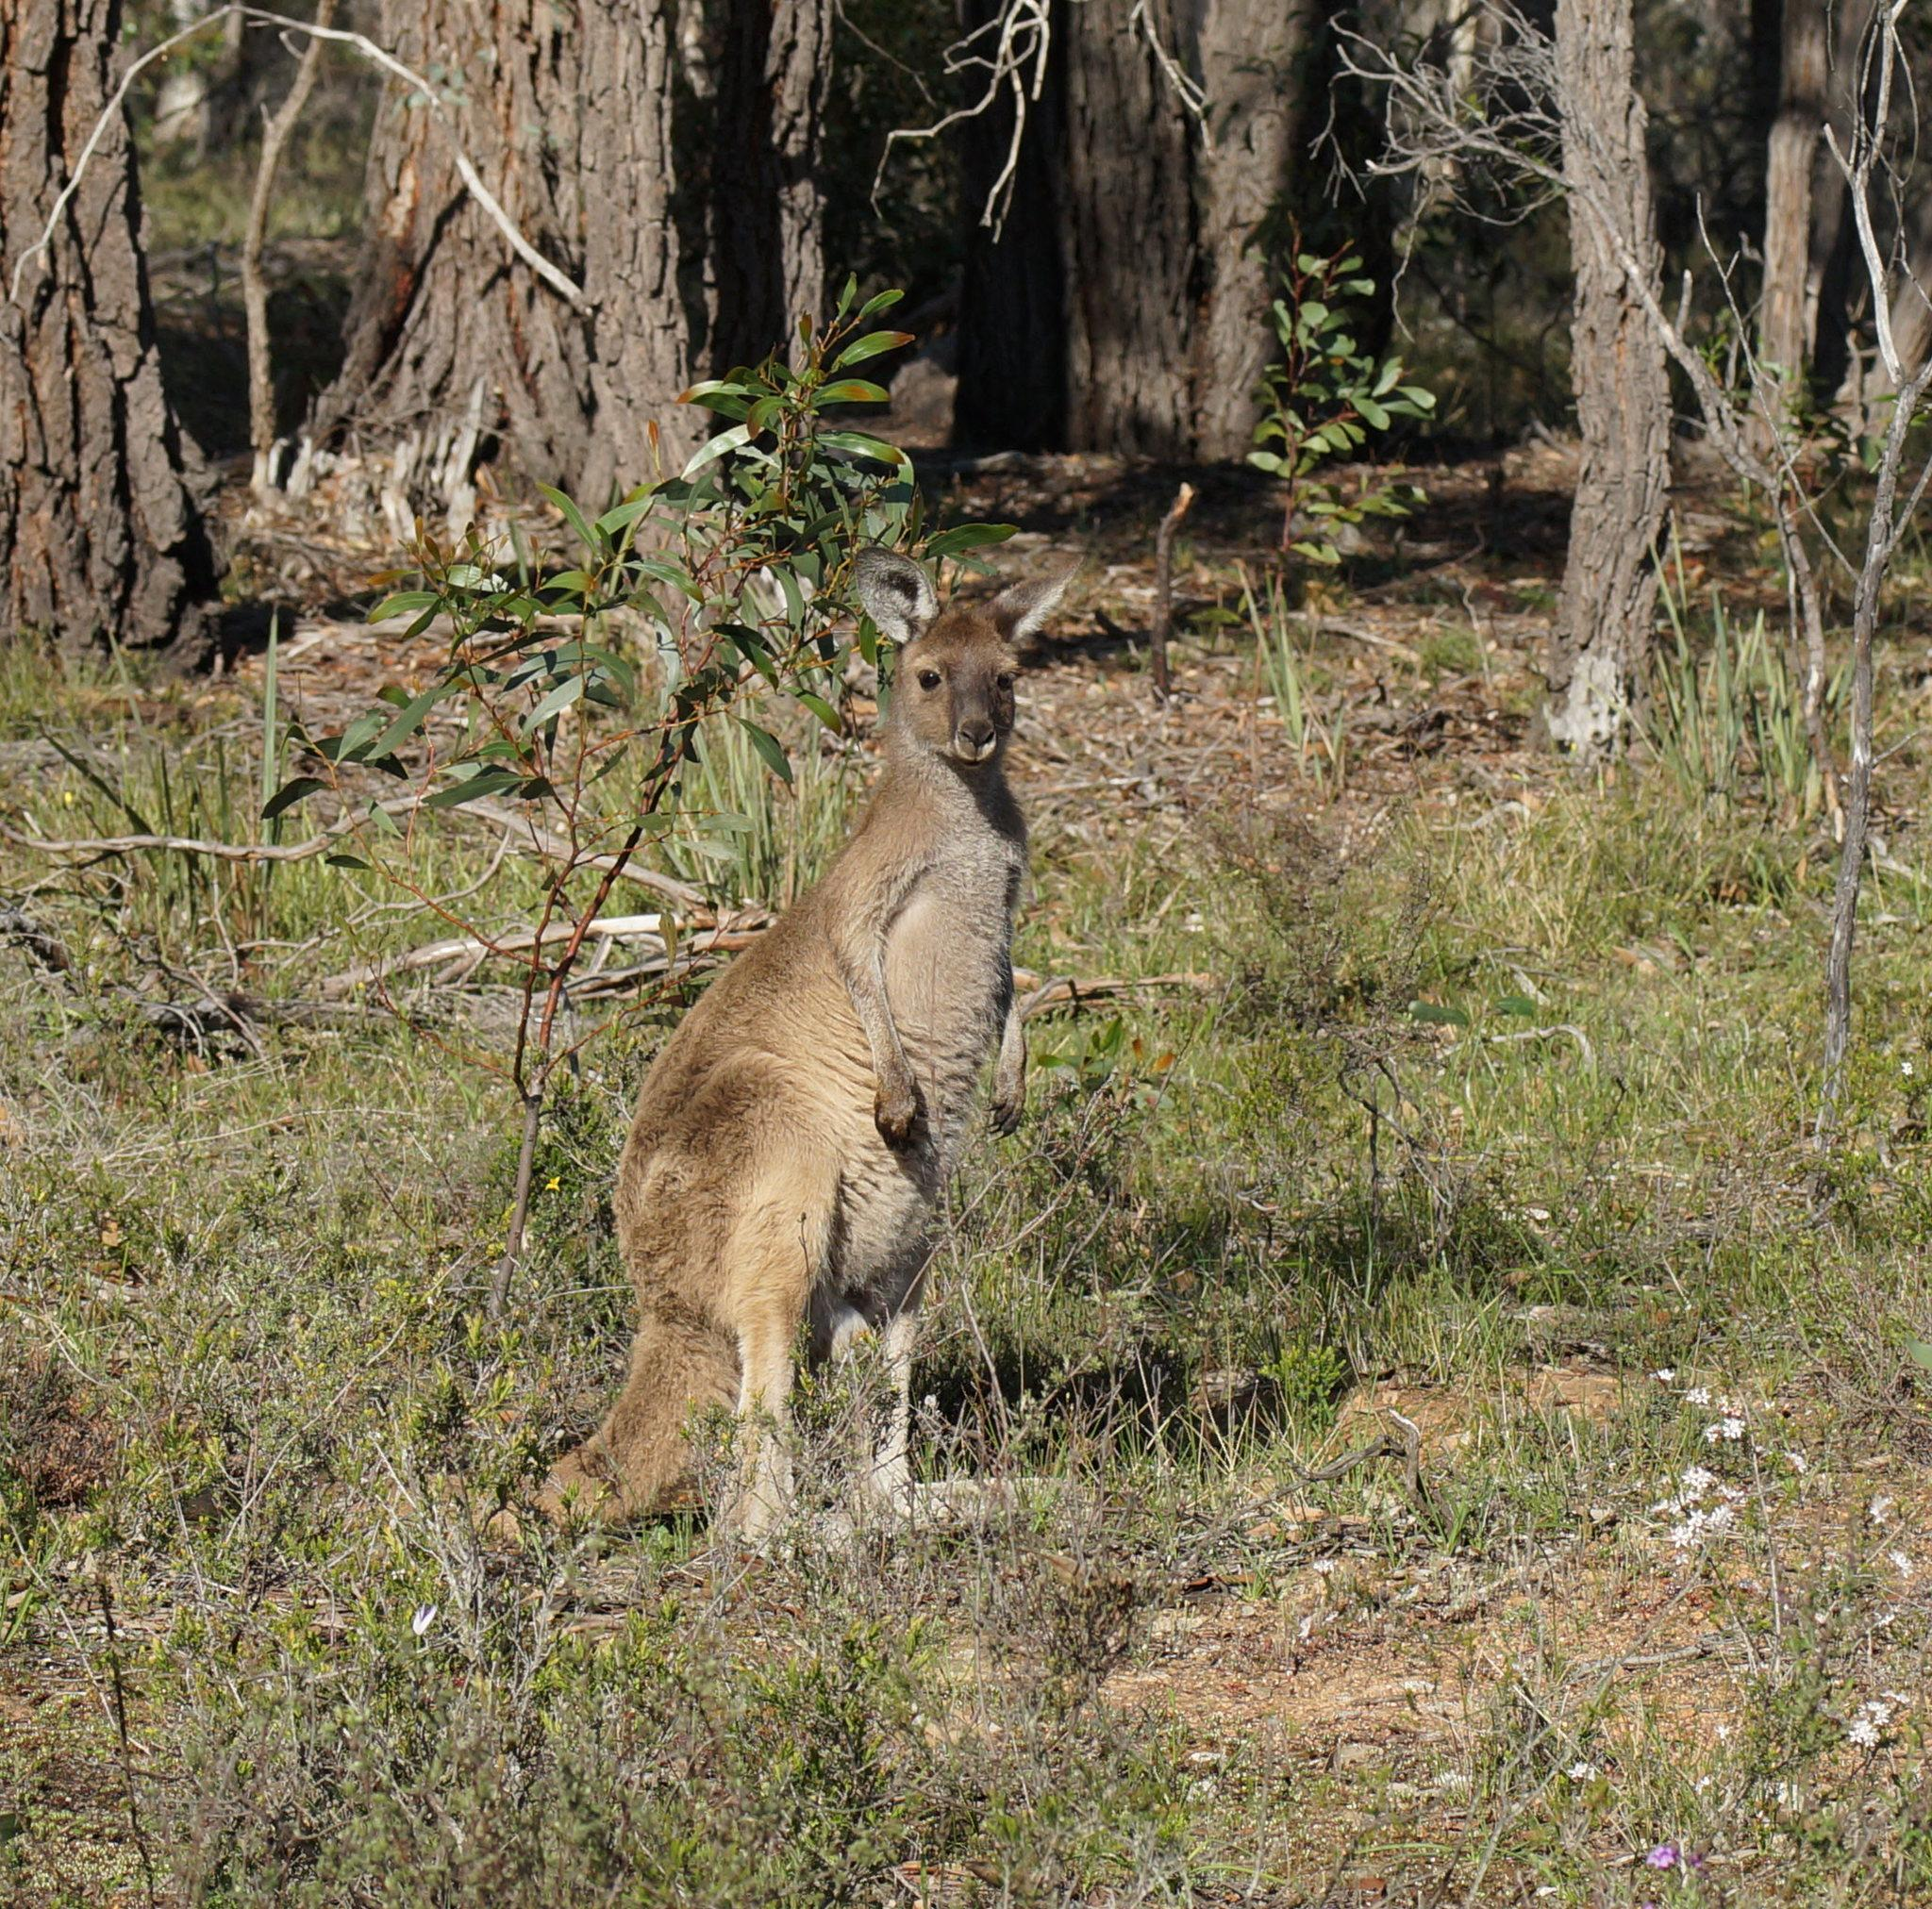Western grey kangaroo: (413, 544, 1110, 1579)
